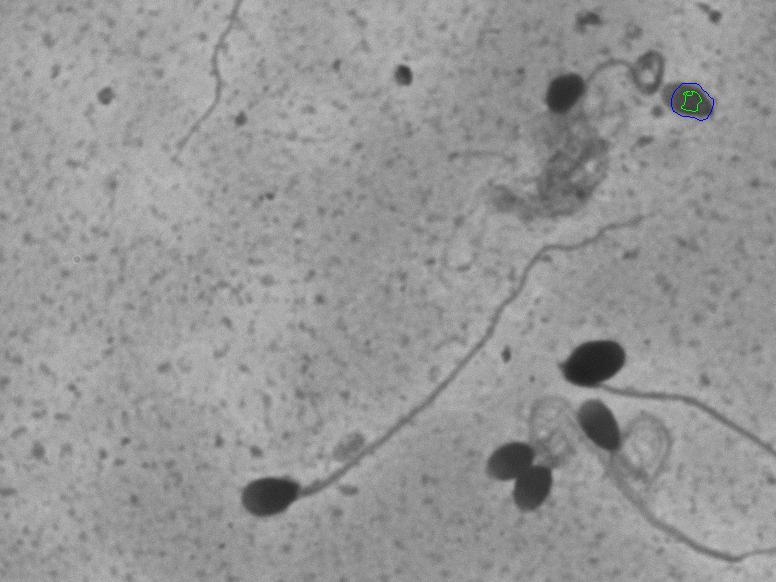Normal: (216, 184, 701, 553)
